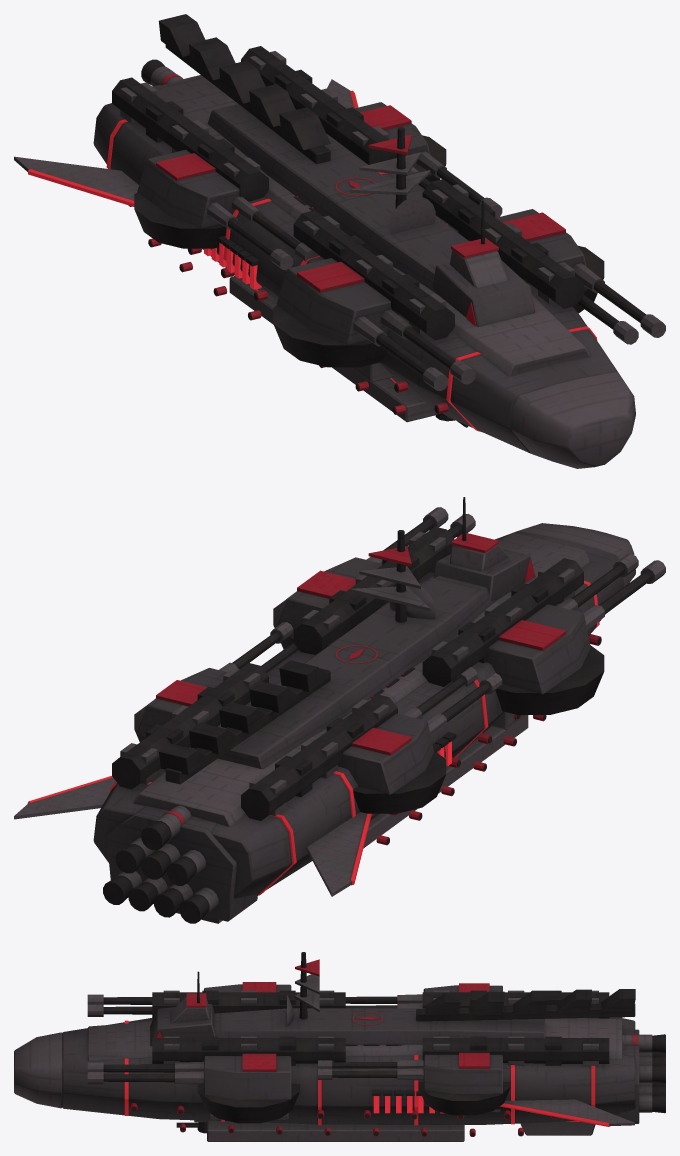
The model's file is vorrakai_capital.glb.
3 renders of one model, top to bottom at view 1: azimuth 30°, elevation 25°; view 2: azimuth 150°, elevation 25°; view 3: azimuth 270°, elevation 25°, orthographic. The views are drawn at different scales.
Visible parts, largest first — view 1: HULL, SYS_WPN2, SYS_BUS_F, SYS_BUS_A, SYS_WPN4, SYS_BRIDGE, SYS_WPN1, SYS_SENSORS, SYS_WPN3, SYS_HANGAR, SYS_REACTOR, SYS_DRIVE; view 2: HULL, SYS_WPN2, SYS_DRIVE, SYS_BUS_A, SYS_BUS_F, SYS_WPN4, SYS_BRIDGE, SYS_WPN1, SYS_WPN3, SYS_SENSORS, SYS_HANGAR; view 3: HULL, SYS_WPN1, SYS_BUS_F, SYS_WPN3, SYS_BUS_A, SYS_HANGAR, SYS_DRIVE, SYS_BRIDGE, SYS_WPN2, SYS_WPN4, SYS_SENSORS, SYS_JUMP (+1 smaller).
Boxes of the visible parts, x1,y1,x2,y2 form: HULL: [14, 14, 635, 468]; SYS_WPN2: [273, 258, 475, 390]; SYS_BUS_F: [293, 179, 583, 340]; SYS_BUS_A: [112, 46, 396, 201]; SYS_WPN4: [134, 149, 317, 270]; SYS_BRIDGE: [433, 200, 535, 326]; SYS_WPN1: [496, 209, 665, 344]; SYS_SENSORS: [350, 127, 435, 233]; SYS_WPN3: [354, 102, 502, 217]; SYS_HANGAR: [229, 276, 437, 422]; SYS_REACTOR: [204, 235, 261, 289]; SYS_DRIVE: [141, 59, 201, 87]; HULL: [14, 523, 635, 913]; SYS_WPN2: [486, 553, 665, 729]; SYS_DRIVE: [103, 805, 257, 923]; SYS_BUS_A: [112, 663, 397, 820]; SYS_BUS_F: [293, 526, 583, 686]; SYS_WPN4: [338, 667, 502, 816]; SYS_BRIDGE: [434, 497, 535, 600]; SYS_WPN1: [273, 507, 475, 649]; SYS_WPN3: [134, 622, 298, 741]; SYS_SENSORS: [350, 530, 435, 622]; SYS_HANGAR: [363, 715, 528, 848]; HULL: [14, 989, 635, 1136]; SYS_WPN1: [87, 1053, 299, 1123]; SYS_BUS_F: [152, 990, 345, 1065]; SYS_WPN3: [318, 1052, 510, 1115]; SYS_BUS_A: [422, 990, 609, 1065]; SYS_HANGAR: [207, 1120, 464, 1141]; SYS_DRIVE: [614, 1029, 665, 1123]; SYS_BRIDGE: [150, 971, 215, 1046]; SYS_WPN2: [87, 982, 291, 1016]; SYS_WPN4: [345, 983, 502, 1008]; SYS_SENSORS: [287, 952, 319, 1026]; SYS_JUMP: [520, 1121, 595, 1135].
Size of the model in its own units: 44.96 by 32.08 by 107.
Materials: 1 (1 with a texture image).
